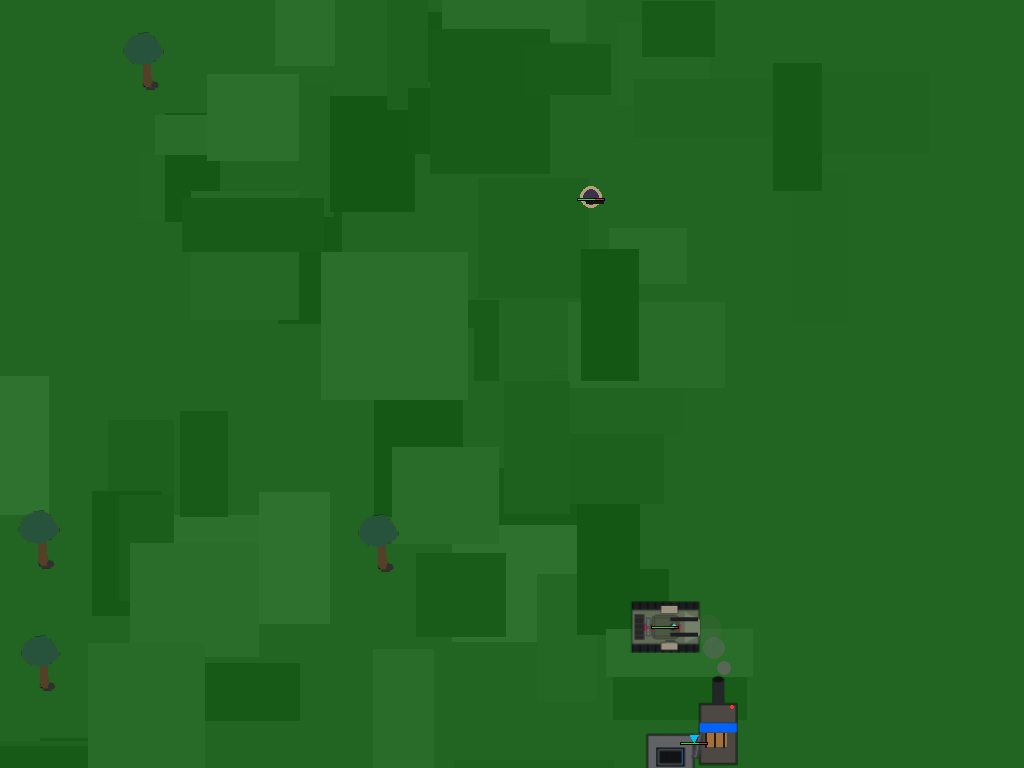FactoryBuilding: (640, 688, 747, 768)
M1A2_chn: (573, 178, 609, 214)
TerminatorIFV: (635, 596, 694, 655)
